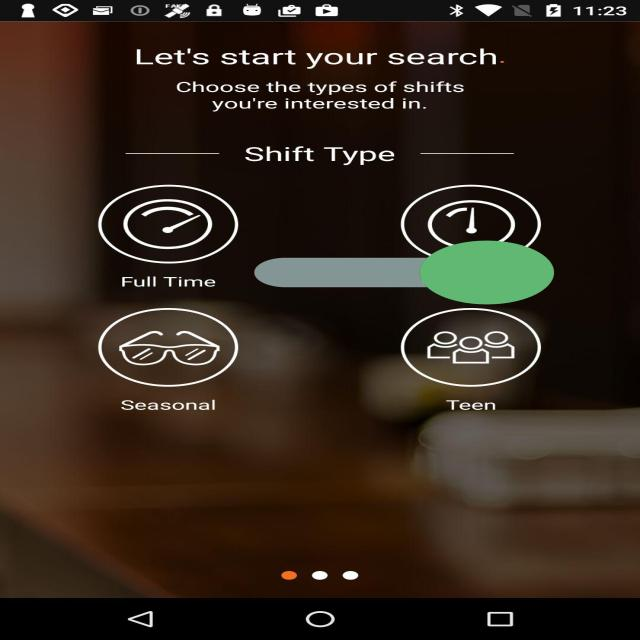social proof: (254, 201, 554, 344)
